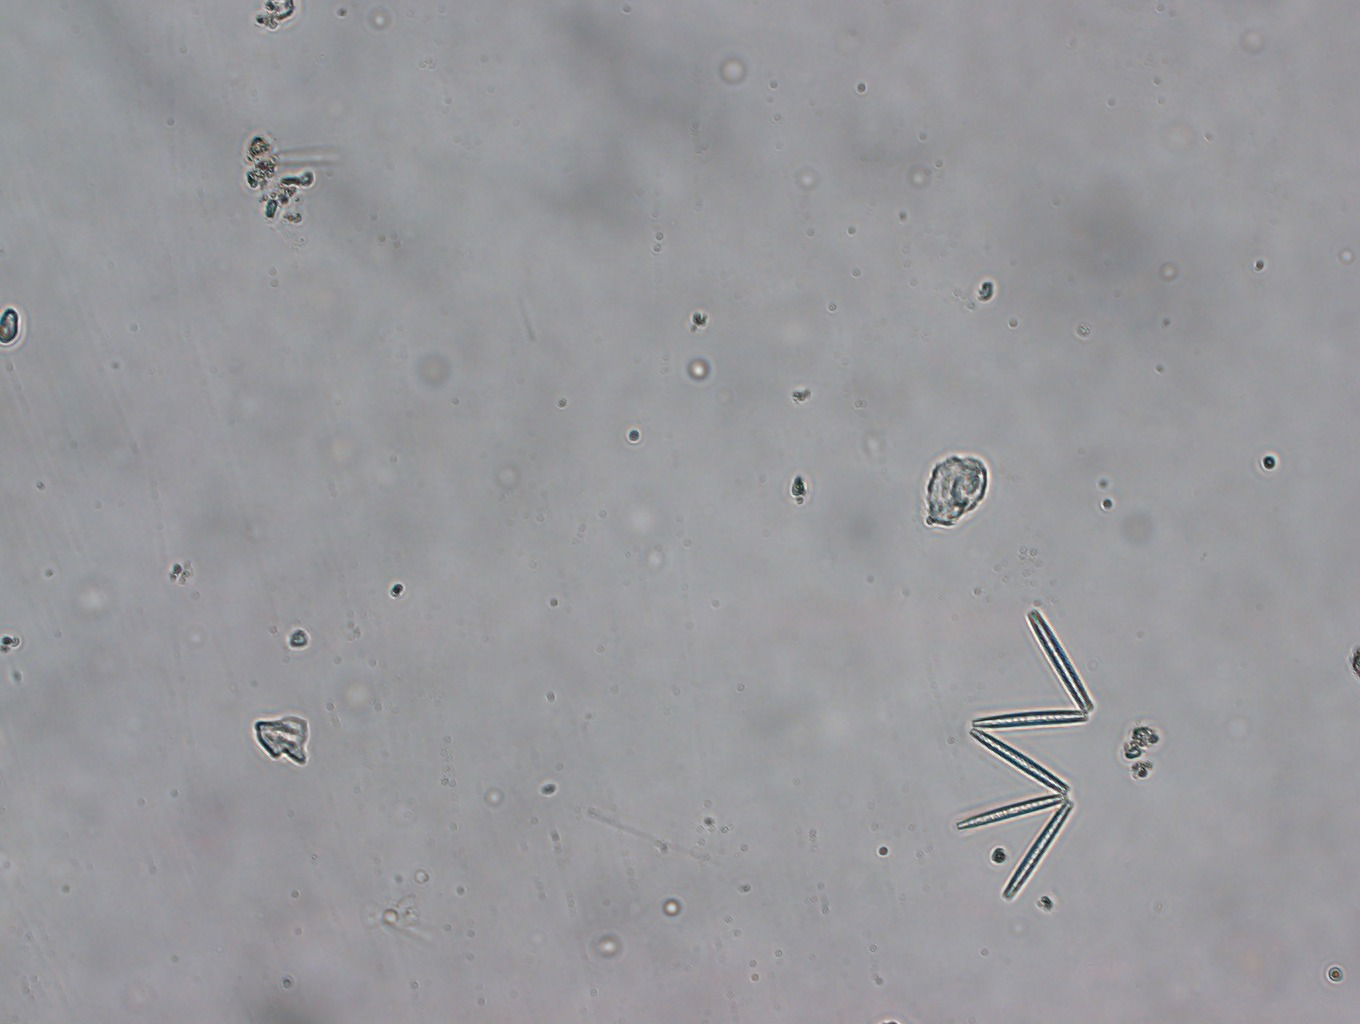thalassionema nitzschioides: (945, 598, 1098, 905)
